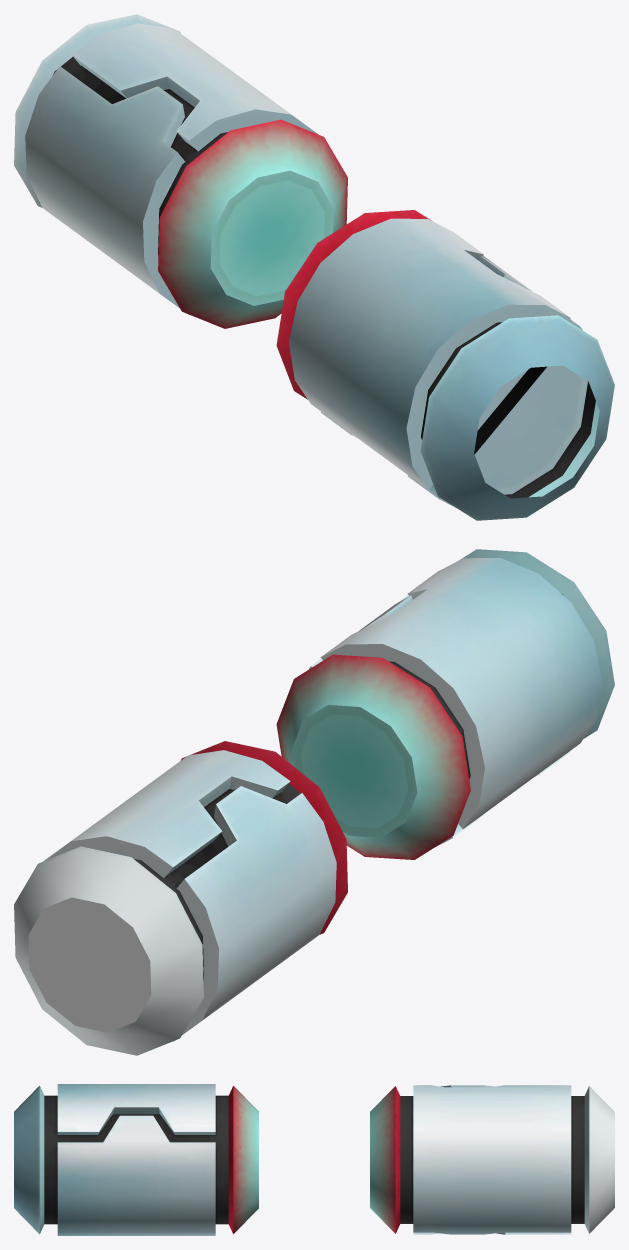
The model's file is Pillar.fbx.
3 renders of one model, top to bottom at view 1: azimuth 30°, elevation 25°; view 2: azimuth 150°, elevation 25°; view 3: azimuth 270°, elevation 25°, orthographic. The views are drawn at different scales.
Visible parts, largest first — view 1: Pillar; view 2: Pillar; view 3: Pillar.
Boxes of the visible parts, bbox=[...] form: Pillar: bbox=[14, 14, 614, 520]; Pillar: bbox=[14, 549, 614, 1055]; Pillar: bbox=[14, 1084, 614, 1235].
Bounding box in the file's own units: 66.32 × 66.32 × 262.
